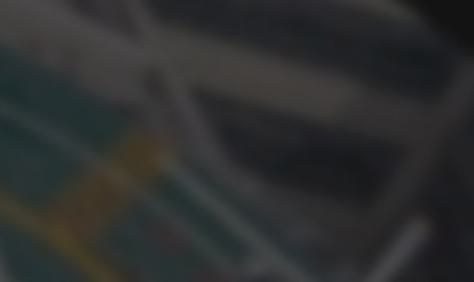Apron: (1, 186, 124, 281)
